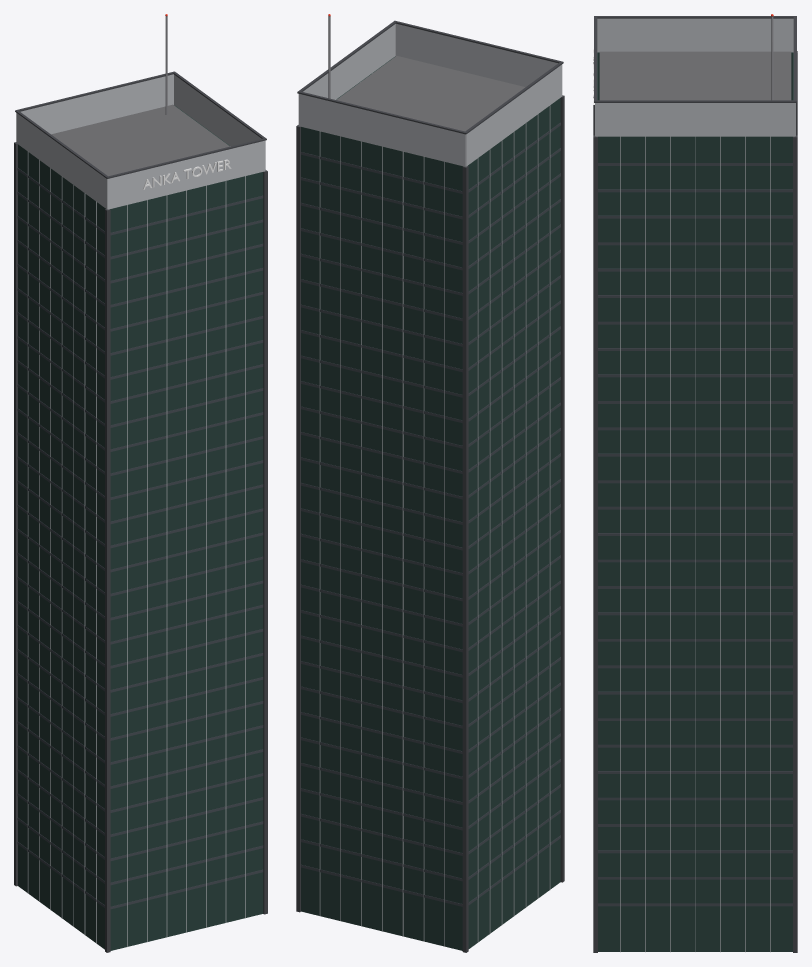
File: bina_16_ust.glb
The picture shows the model from 3 angles, left to right: view 1: azimuth 30°, elevation 25°; view 2: azimuth 150°, elevation 25°; view 3: azimuth 270°, elevation 25°; orthographic projection. The views are drawn at different scales.
Parts seen in each view (by area): view 1: P16_ust; view 2: P16_ust; view 3: P16_ust.
Part boxes in pixels (<box>): P16_ust: <box>14,14,267,952</box>; P16_ust: <box>296,14,564,952</box>; P16_ust: <box>593,14,797,952</box>.
Size of the model in its own units: 26.6 by 133 by 26.6.
